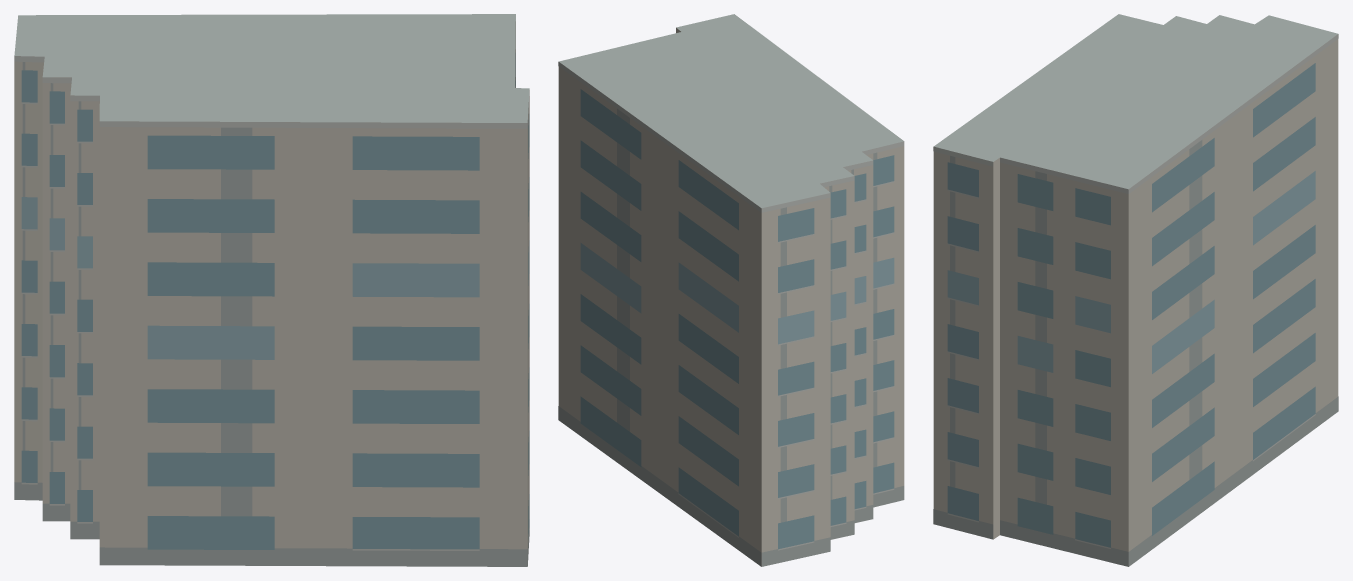
The model's file is survey-upis-33031172.glb.
3 views of the same model, side by side, from view 1: azimuth 30°, elevation 25°; view 2: azimuth 150°, elevation 25°; view 3: azimuth 270°, elevation 25° (orthographic). The views are drawn at different scales.
Parts seen in each view (by area): view 1: survey-upis-33031172.tmp; view 2: survey-upis-33031172.tmp; view 3: survey-upis-33031172.tmp.
Boxes of the visible parts, box(x1,y1,x2,y2) form: survey-upis-33031172.tmp: box(14, 14, 529, 566); survey-upis-33031172.tmp: box(558, 14, 904, 566); survey-upis-33031172.tmp: box(933, 14, 1338, 566).
Bounding box in the file's own units: 18.72 × 18.8 × 18.28.
